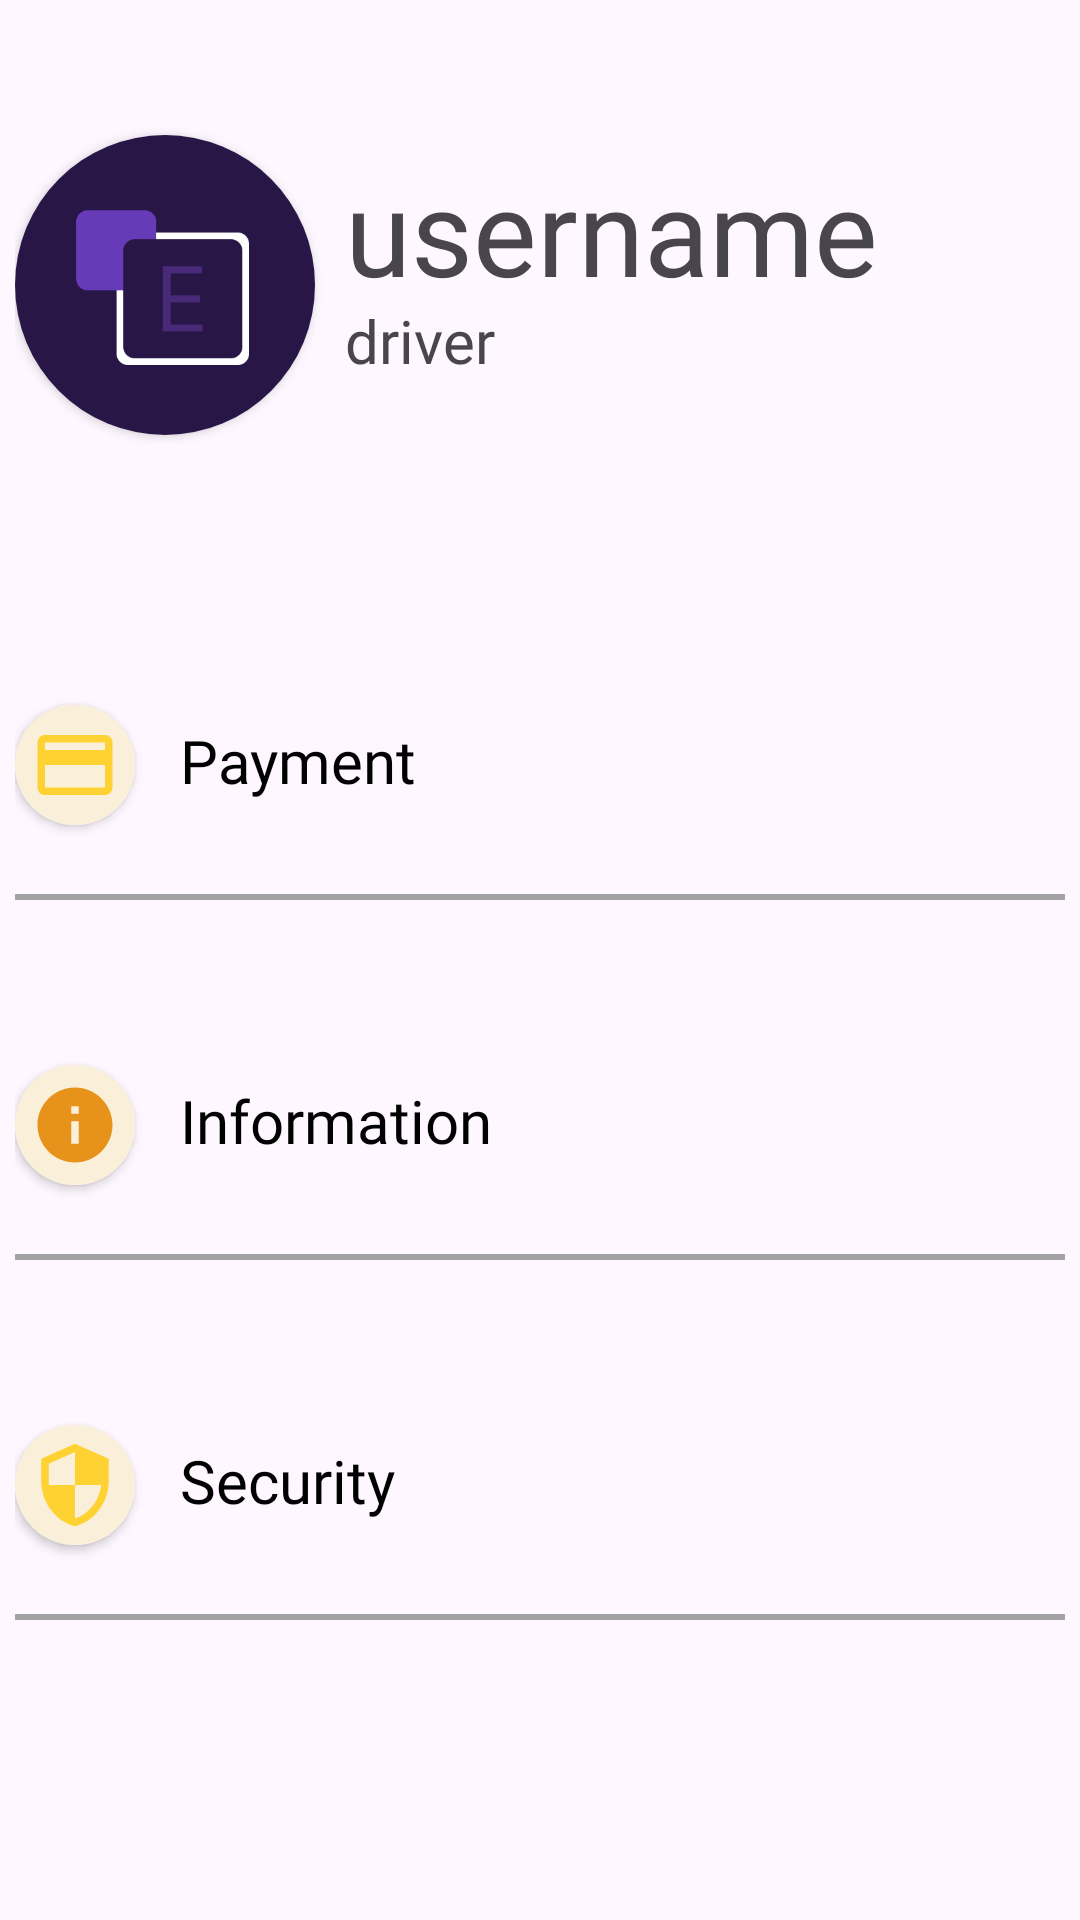

Where to tap for icons on this 1080x1920 app screen, as (x=x, y=y):
credit card: (x=75, y=765)
profile: (x=165, y=285)
